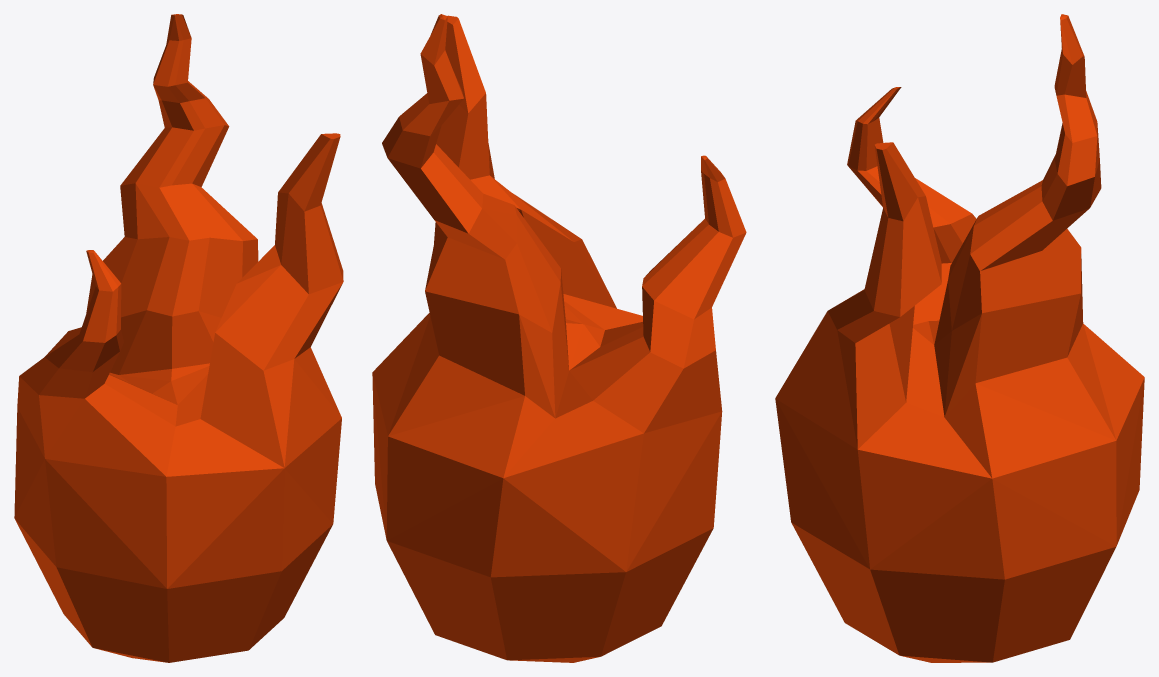
Rendered from 3D_special_yggradeer_fireball.fbx.
3 views of the same model, side by side, from view 1: azimuth 30°, elevation 25°; view 2: azimuth 150°, elevation 25°; view 3: azimuth 270°, elevation 25° (orthographic). The views are drawn at different scales.
Visible parts, largest first — view 1: SM_yggdradeers_fireball; view 2: SM_yggdradeers_fireball; view 3: SM_yggdradeers_fireball.
Boxes of the visible parts, x1,y1,x2,y2 form: SM_yggdradeers_fireball: (14, 14, 343, 662); SM_yggdradeers_fireball: (372, 14, 746, 662); SM_yggdradeers_fireball: (775, 14, 1144, 662).
Size of the model in its own units: 22.11 by 42.79 by 22.03.
1 material, 1 textured.
